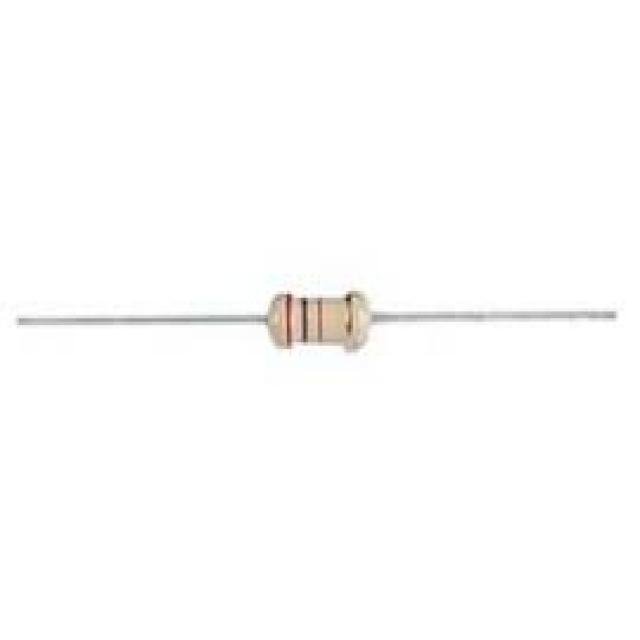Resistor: (265, 289, 370, 353)
